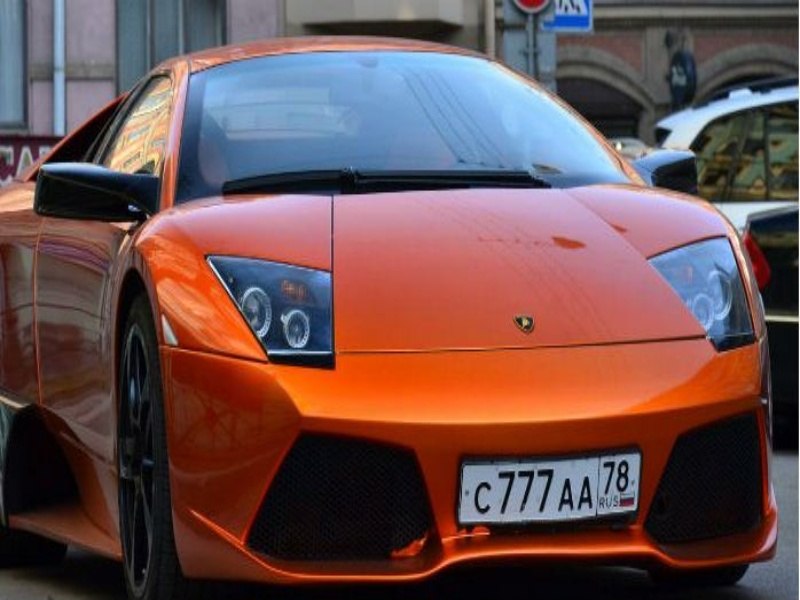car: (1, 35, 780, 600)
plate: (459, 453, 638, 519)
